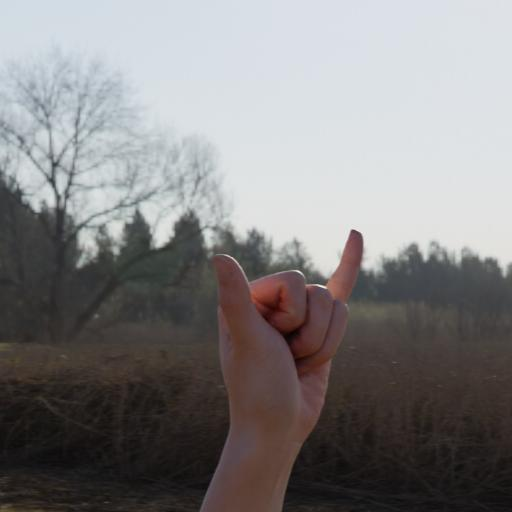Y: (212, 225, 366, 440)
